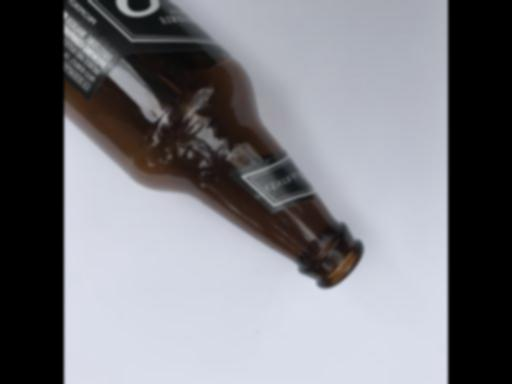alcohol: (65, 0, 366, 289)
glass: (65, 0, 366, 289)
sodocalcique: (65, 0, 366, 289)
